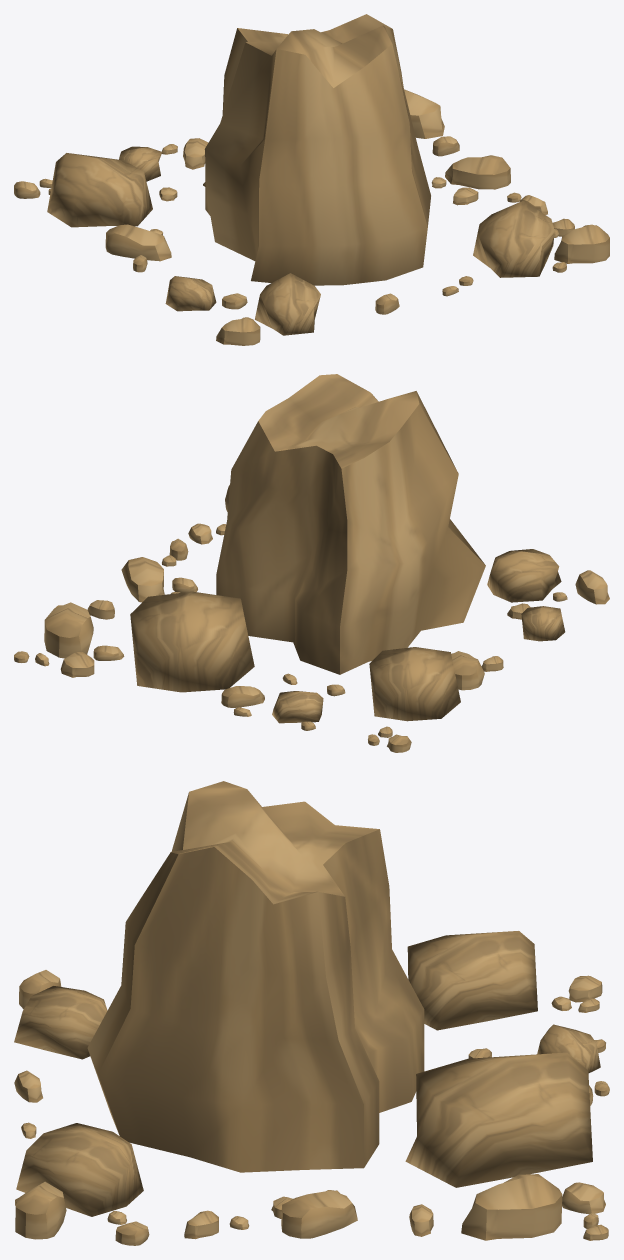
File: m_env_roche_5.FBX
3 renders of one model, top to bottom at view 1: azimuth 30°, elevation 25°; view 2: azimuth 150°, elevation 25°; view 3: azimuth 270°, elevation 25°, orthographic. The views are drawn at different scales.
Parts seen in each view (by area): view 1: Sphere012; view 2: Sphere012; view 3: Sphere012.
Part boxes in pixels (left/top/right/bottom): Sphere012: left=14, top=14, right=609, bottom=345; Sphere012: left=14, top=374, right=609, bottom=752; Sphere012: left=14, top=781, right=609, bottom=1245.
Size of the model in its own units: 198 by 195 by 109.
